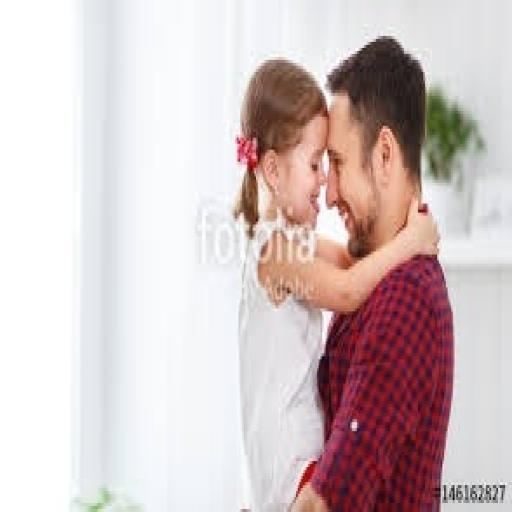hugging: (232, 36, 454, 509)
